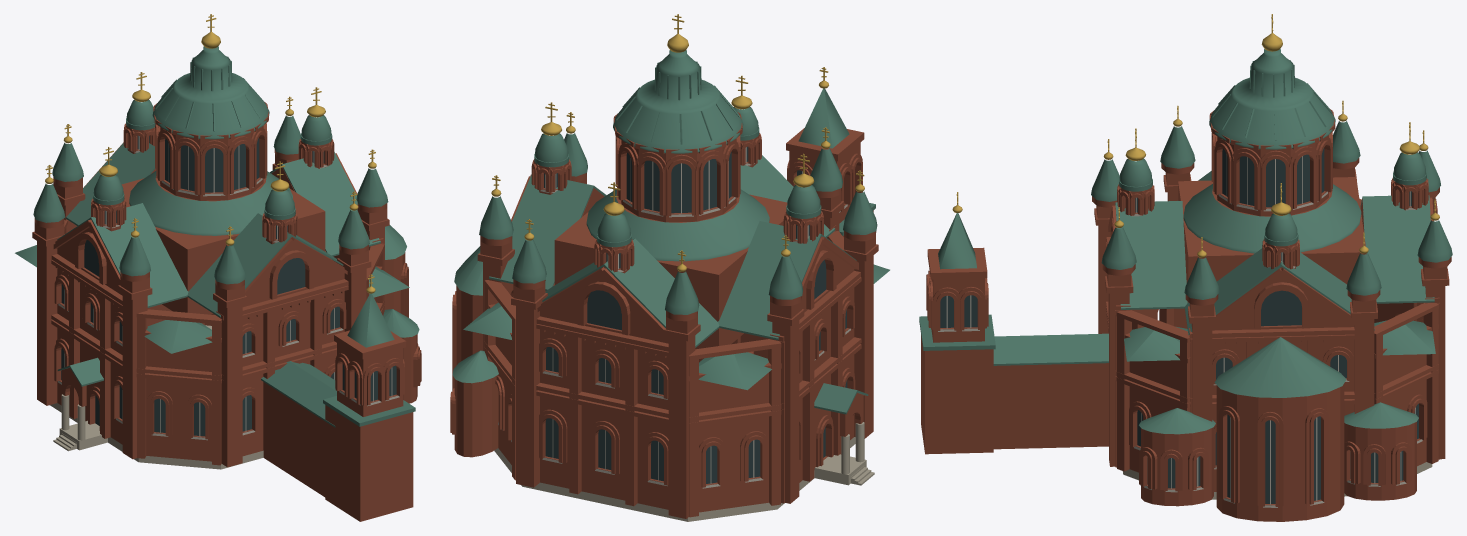
Rendered from uspenski-cathedral-near.glb.
3 renders of one model, left to right at view 1: azimuth 30°, elevation 25°; view 2: azimuth 150°, elevation 25°; view 3: azimuth 270°, elevation 25°, orthographic. The views are drawn at different scales.
Visible parts, largest first — view 1: uspenski-cathedral-0-brick, uspenski-cathedral-0-copper, uspenski-cathedral-0-glass, uspenski-cathedral-0-granite, uspenski-cathedral-0-lamp, uspenski-cathedral-0-trim; view 2: uspenski-cathedral-0-brick, uspenski-cathedral-0-copper, uspenski-cathedral-0-glass, uspenski-cathedral-0-granite, uspenski-cathedral-0-lamp, uspenski-cathedral-0-trim; view 3: uspenski-cathedral-0-brick, uspenski-cathedral-0-copper, uspenski-cathedral-0-glass, uspenski-cathedral-0-lamp, uspenski-cathedral-0-trim.
Boxes of the visible parts, x1,y1,x2,y2 form: uspenski-cathedral-0-brick: (32,102,421,521); uspenski-cathedral-0-copper: (15,46,419,427); uspenski-cathedral-0-glass: (61,135,396,436); uspenski-cathedral-0-granite: (50,325,263,469); uspenski-cathedral-0-lamp: (45,14,376,293); uspenski-cathedral-0-trim: (58,136,399,440); uspenski-cathedral-0-brick: (450,112,878,518); uspenski-cathedral-0-copper: (452,50,889,414); uspenski-cathedral-0-glass: (544,146,847,483); uspenski-cathedral-0-granite: (494,422,874,521); uspenski-cathedral-0-lamp: (491,14,864,271); uspenski-cathedral-0-trim: (498,147,850,488); uspenski-cathedral-0-brick: (921,109,1451,521); uspenski-cathedral-0-copper: (919,49,1452,434); uspenski-cathedral-0-glass: (940,148,1418,503); uspenski-cathedral-0-lamp: (952,14,1439,257); uspenski-cathedral-0-trim: (938,154,1422,507).
Bounding box in the file's own units: 35.8 × 37.84 × 43.79.
